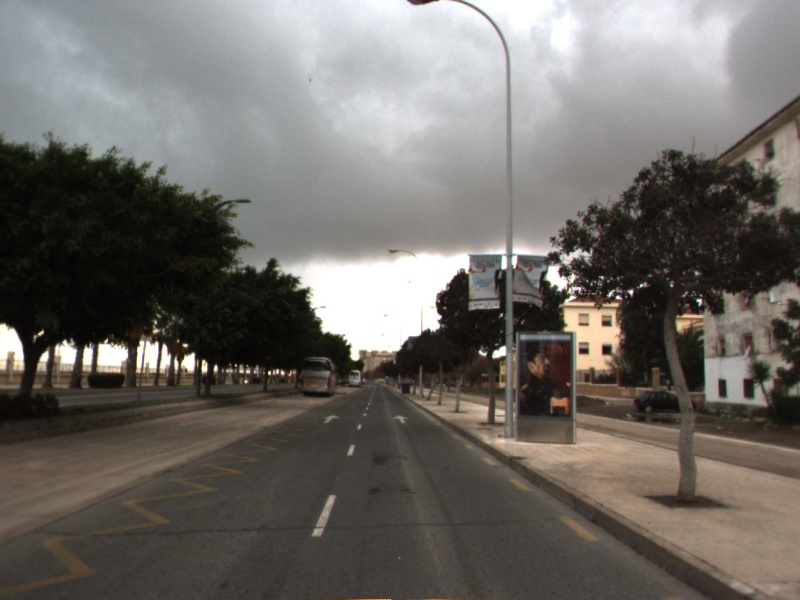STRAIGHT: (321, 413, 342, 425), (391, 413, 411, 425)
